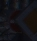No entry: (5, 6, 32, 36)
